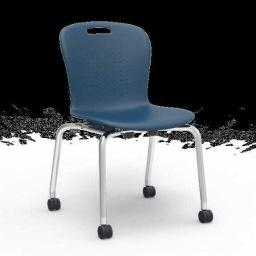Chair: (49, 21, 213, 243)
